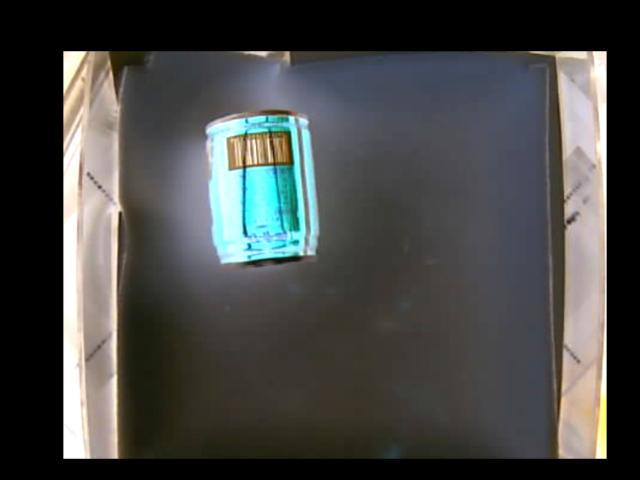Bottle: (205, 111, 318, 269)
